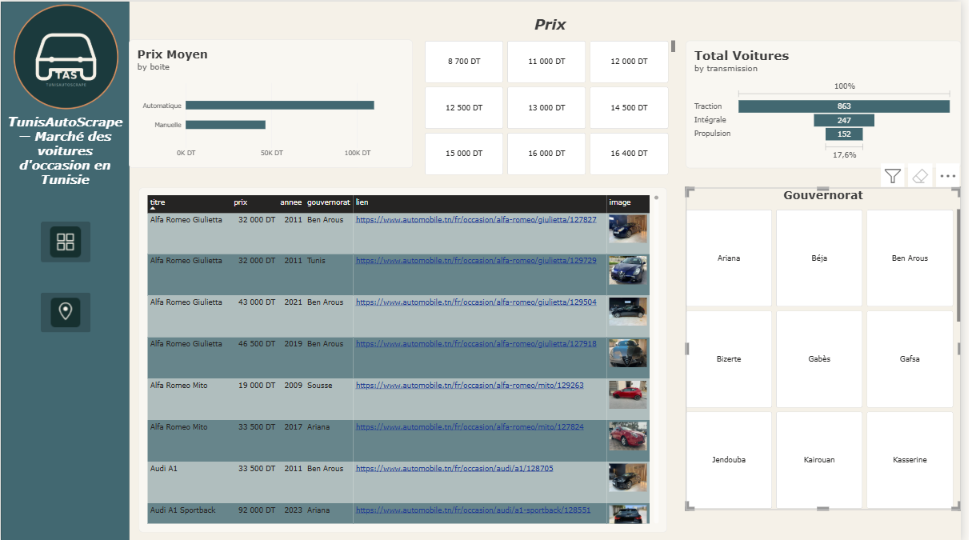

The page's visual inventory and layout, read from the dashboard file:
{"tool":"powerbi","page":{"name":"Page 3","canvas":[1920,1080],"ordinal":2},"visuals":[{"type":"shape","box":[0,0,257,1080.4],"z":0},{"type":"clusteredBarChart","fields":{"Category":["voitures.boite"],"Y":["voitures.Prix Moyen"]},"box":[257,76,568.2,257],"z":4},{"type":"tableEx","fields":{"Values":["voitures.titre","voitures.prix","voitures.annee","voitures.gouvernorat","voitures.lien","voitures.image"]},"box":[276.9,372.8,1056.8,689.5],"z":5},{"type":"image","box":[3.6,0,253.4,220.8],"z":6},{"type":"textbox","box":[0,222.6,257,150.2],"z":7},{"type":"funnel","fields":{"Category":["voitures.transmission"],"Y":["voitures.Total Voitures"]},"box":[1369.9,77.8,550.1,255.2],"z":9},{"type":"advancedSlicerVisual","title":"Prix","fields":{"Values":["voitures.prix"]},"box":[848.7,27.1,501.3,318.5],"z":10},{"type":"advancedSlicerVisual","title":"Gouvernorat","fields":{"Values":["voitures.gouvernorat"]},"box":[1369.9,372.8,550.1,642.4],"z":11},{"type":"actionButton","box":[79.6,439.7,99.5,81.4],"z":12},{"type":"actionButton","box":[79.6,582.7,99.5,79.6],"z":13}]}

Visuals, with their boxes in screenshot pixels (x1, y1, x2, y2), scaled from the page's 1920x1080 canvas onto the 969x540 screenshot:
shape: select_region(0, 0, 130, 539)
clusteredBarChart - voitures.boite x voitures.Prix Moyen: select_region(130, 38, 416, 166)
tableEx - voitures.titre x voitures.prix: select_region(140, 186, 673, 531)
image: select_region(2, 0, 130, 110)
textbox: select_region(0, 111, 130, 186)
funnel - voitures.transmission x voitures.Total Voitures: select_region(691, 39, 968, 166)
"Prix" advancedSlicerVisual: select_region(428, 14, 681, 173)
"Gouvernorat" advancedSlicerVisual: select_region(691, 186, 968, 508)
actionButton: select_region(40, 220, 90, 261)
actionButton: select_region(40, 291, 90, 331)
